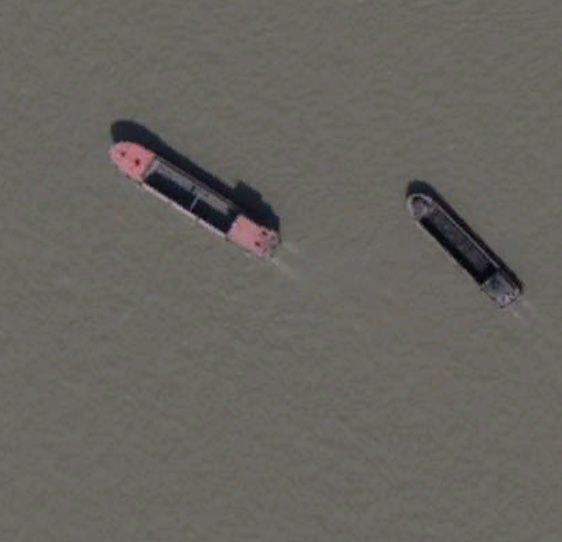boat: (106, 139, 283, 263), (402, 183, 523, 310)
